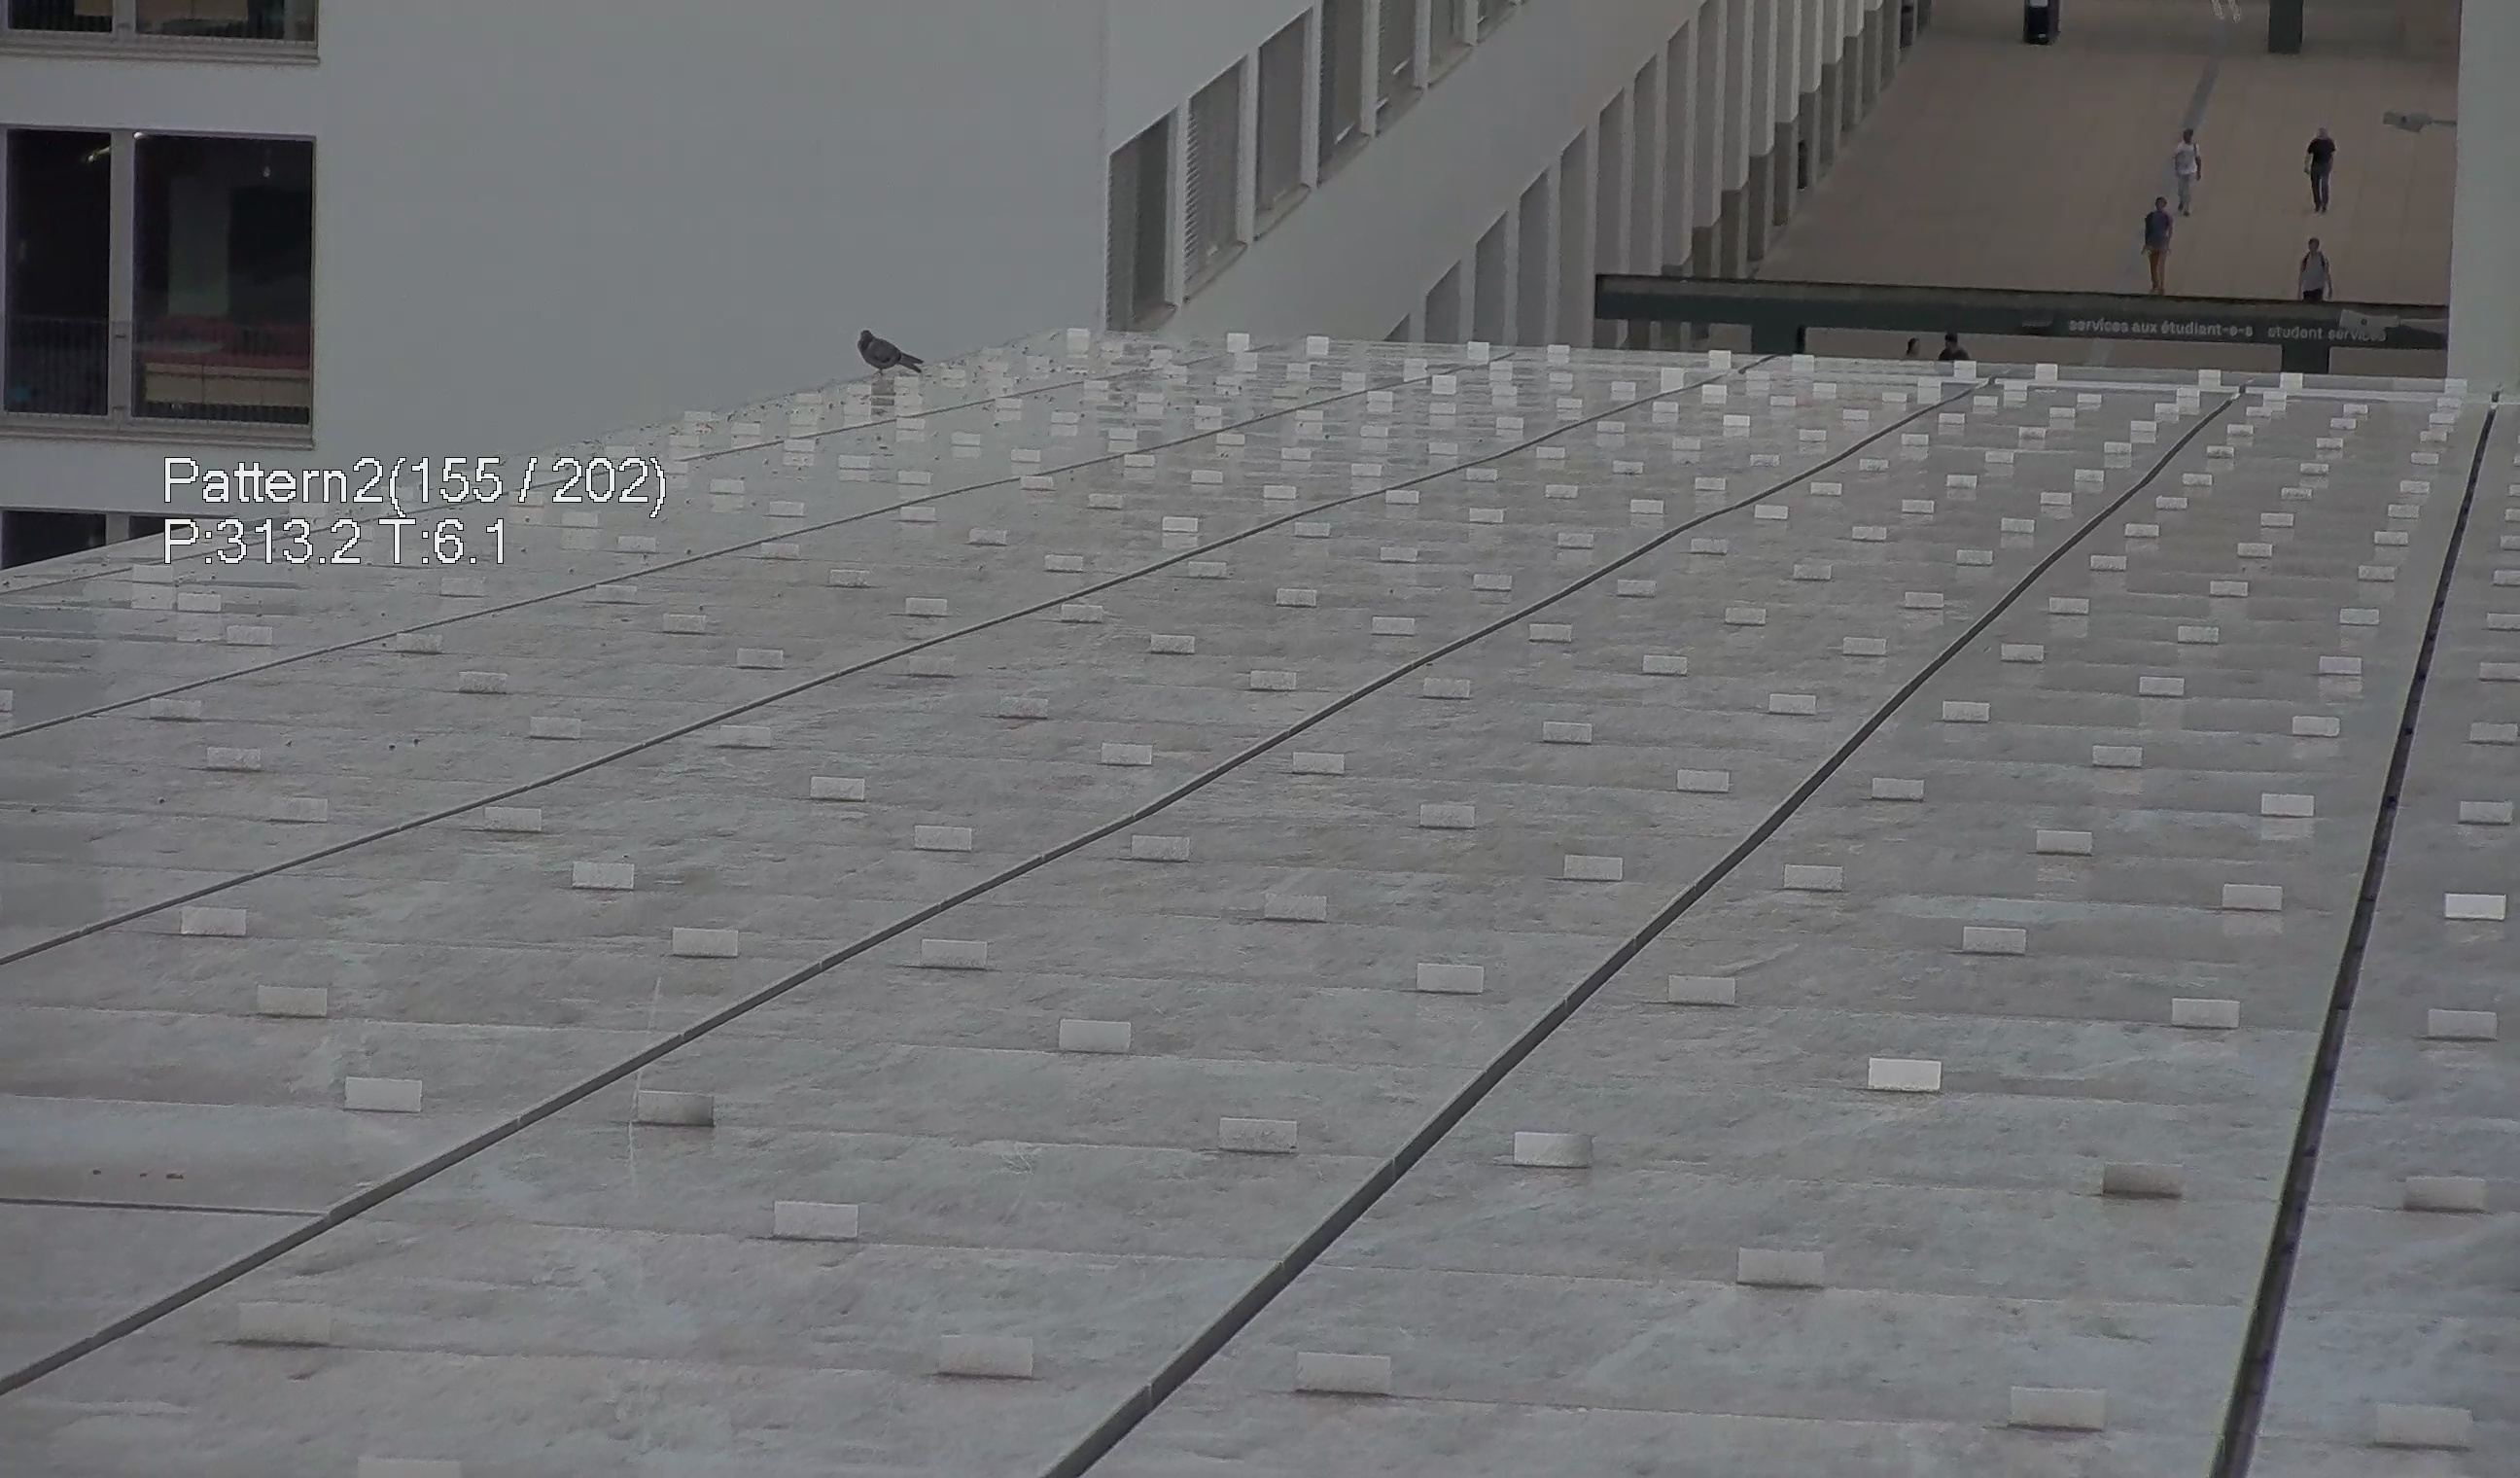Pigeon: (841, 315, 927, 377)
